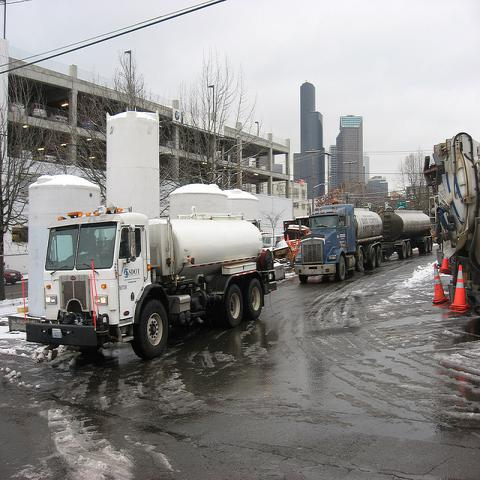car: (4, 265, 22, 286), (262, 233, 282, 248)
truck: (24, 206, 279, 358), (422, 132, 480, 318), (293, 204, 384, 283), (378, 207, 434, 261)
